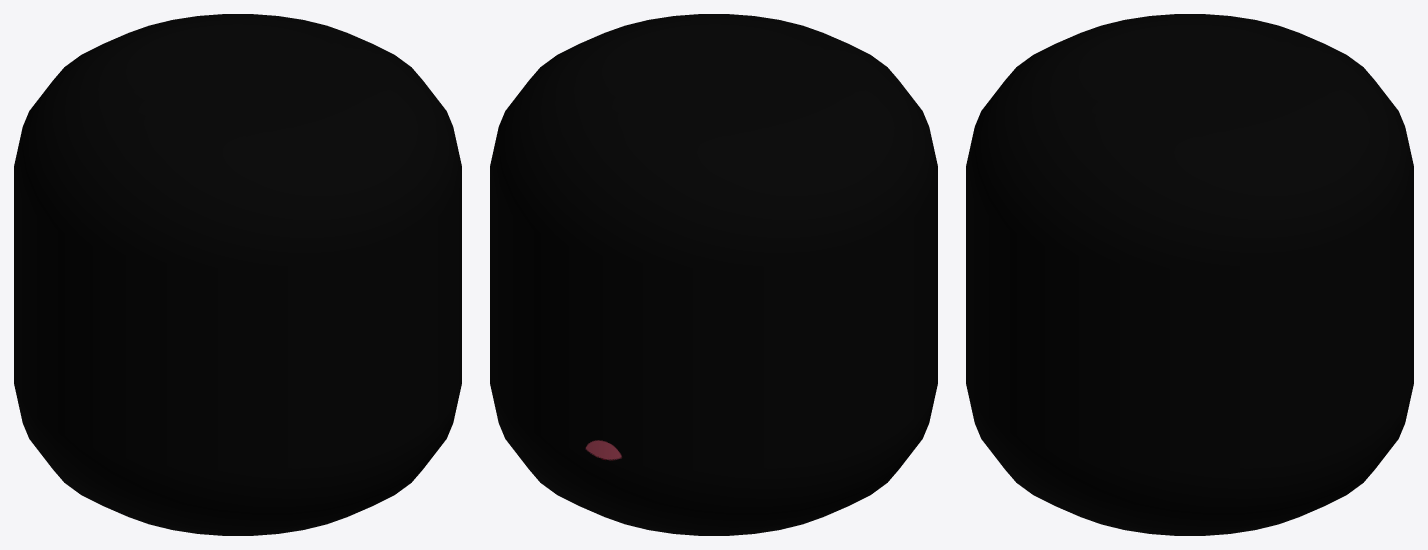
The model's file is head.obj.
The picture shows the model from 3 angles, left to right: view 1: azimuth 30°, elevation 25°; view 2: azimuth 150°, elevation 25°; view 3: azimuth 270°, elevation 25°; orthographic projection.
Visible parts, largest first — view 1: Face; view 2: Face; view 3: Face.
Part boxes in pixels (<box>): Face: <box>14,14,461,535</box>; Face: <box>490,14,937,535</box>; Face: <box>966,14,1413,535</box>.
Size of the model in its own units: 1.21 by 1.21 by 1.21.
